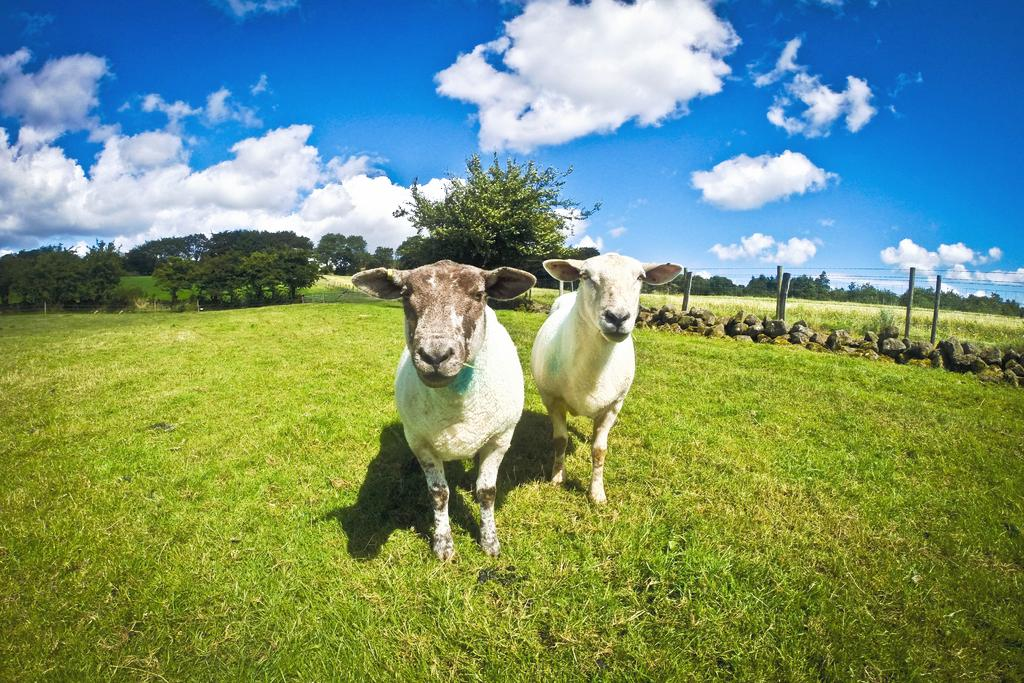Sheep: (346, 258, 522, 564), (526, 257, 684, 509)
